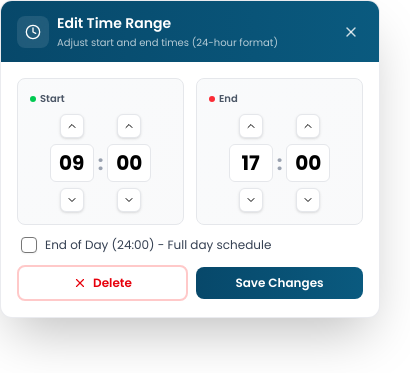
it: CustomTimePicker › typing non-digits filters them out; blur clamps overflow
Replace the text in the field named "Start hour" with "9a9": (72, 163) [50,144,94,182]
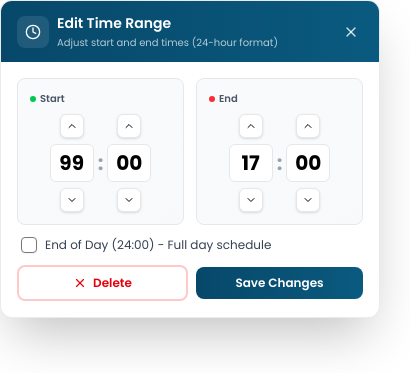
Expected: the field named "Start hour" holds "99"
Leave the field named "Start hour", box [50,144,94,182]
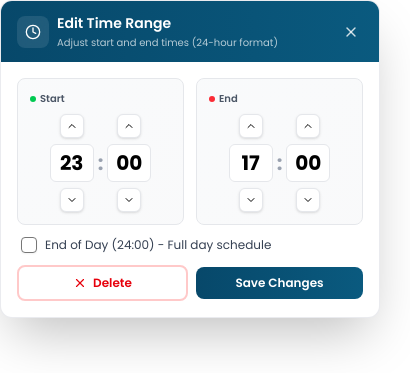
Expected: the field named "Start hour" holds "23", [50,144,94,182]
